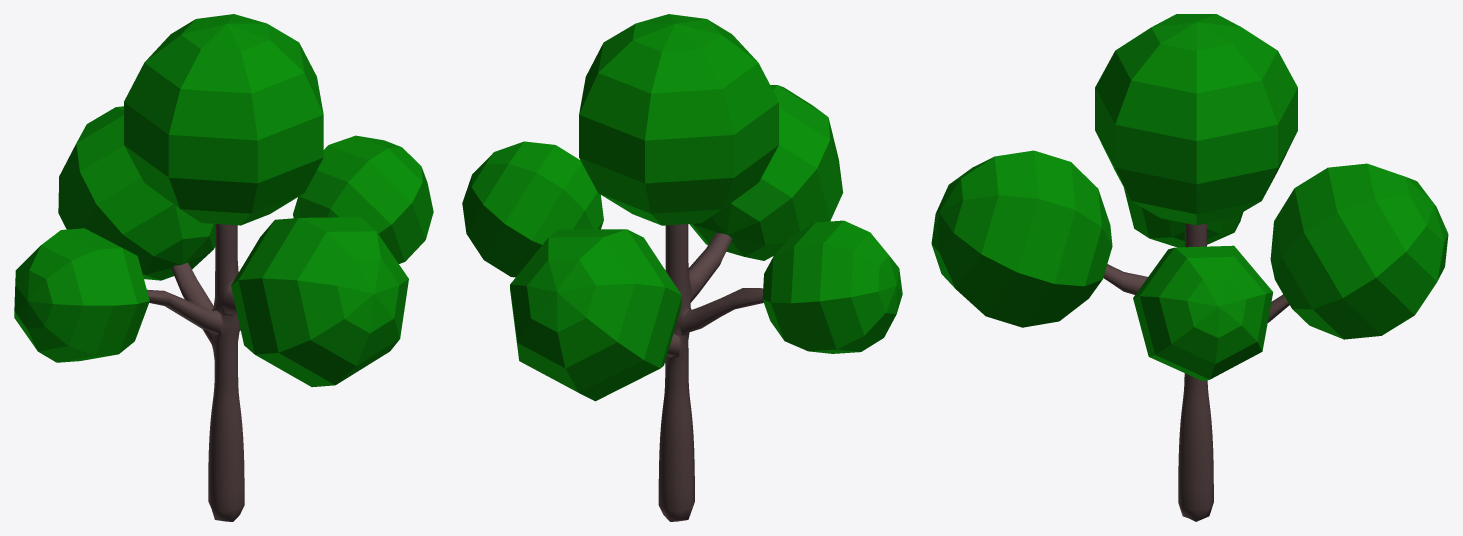
Rendered from Tree 1.fbx.
The picture shows the model from 3 angles, left to right: view 1: azimuth 30°, elevation 25°; view 2: azimuth 150°, elevation 25°; view 3: azimuth 270°, elevation 25°; orthographic projection.
Parts seen in each view (by area): view 1: pSphere1, pSphere4, pSphere5, pSphere3, pSphere2, pCube1; view 2: pSphere1, pSphere3, pSphere5, pSphere2, pSphere4, pCube1; view 3: pSphere1, pSphere4, pSphere3, pSphere2, pCube1, pSphere5.
Boxes of the visible parts, box(x1,y1,x2,y2) form: pSphere1: box(124, 14, 323, 225); pSphere4: box(231, 217, 408, 387); pSphere5: box(14, 228, 149, 362); pSphere3: box(58, 106, 215, 280); pSphere2: box(293, 135, 433, 263); pCube1: box(147, 224, 244, 521); pSphere1: box(579, 14, 778, 225); pSphere3: box(510, 229, 681, 401); pSphere5: box(762, 220, 902, 353); pSphere2: box(462, 141, 603, 277); pSphere4: box(689, 85, 843, 260); pCube1: box(658, 224, 763, 521); pSphere1: box(1095, 14, 1297, 225); pSphere4: box(931, 150, 1112, 327); pSphere3: box(1270, 163, 1448, 339); pSphere2: box(1133, 245, 1273, 381); pCube1: box(1103, 223, 1289, 521); pSphere5: box(1124, 188, 1243, 247).
Bounding box in the file's own units: 21.64 × 25.02 × 23.48.
